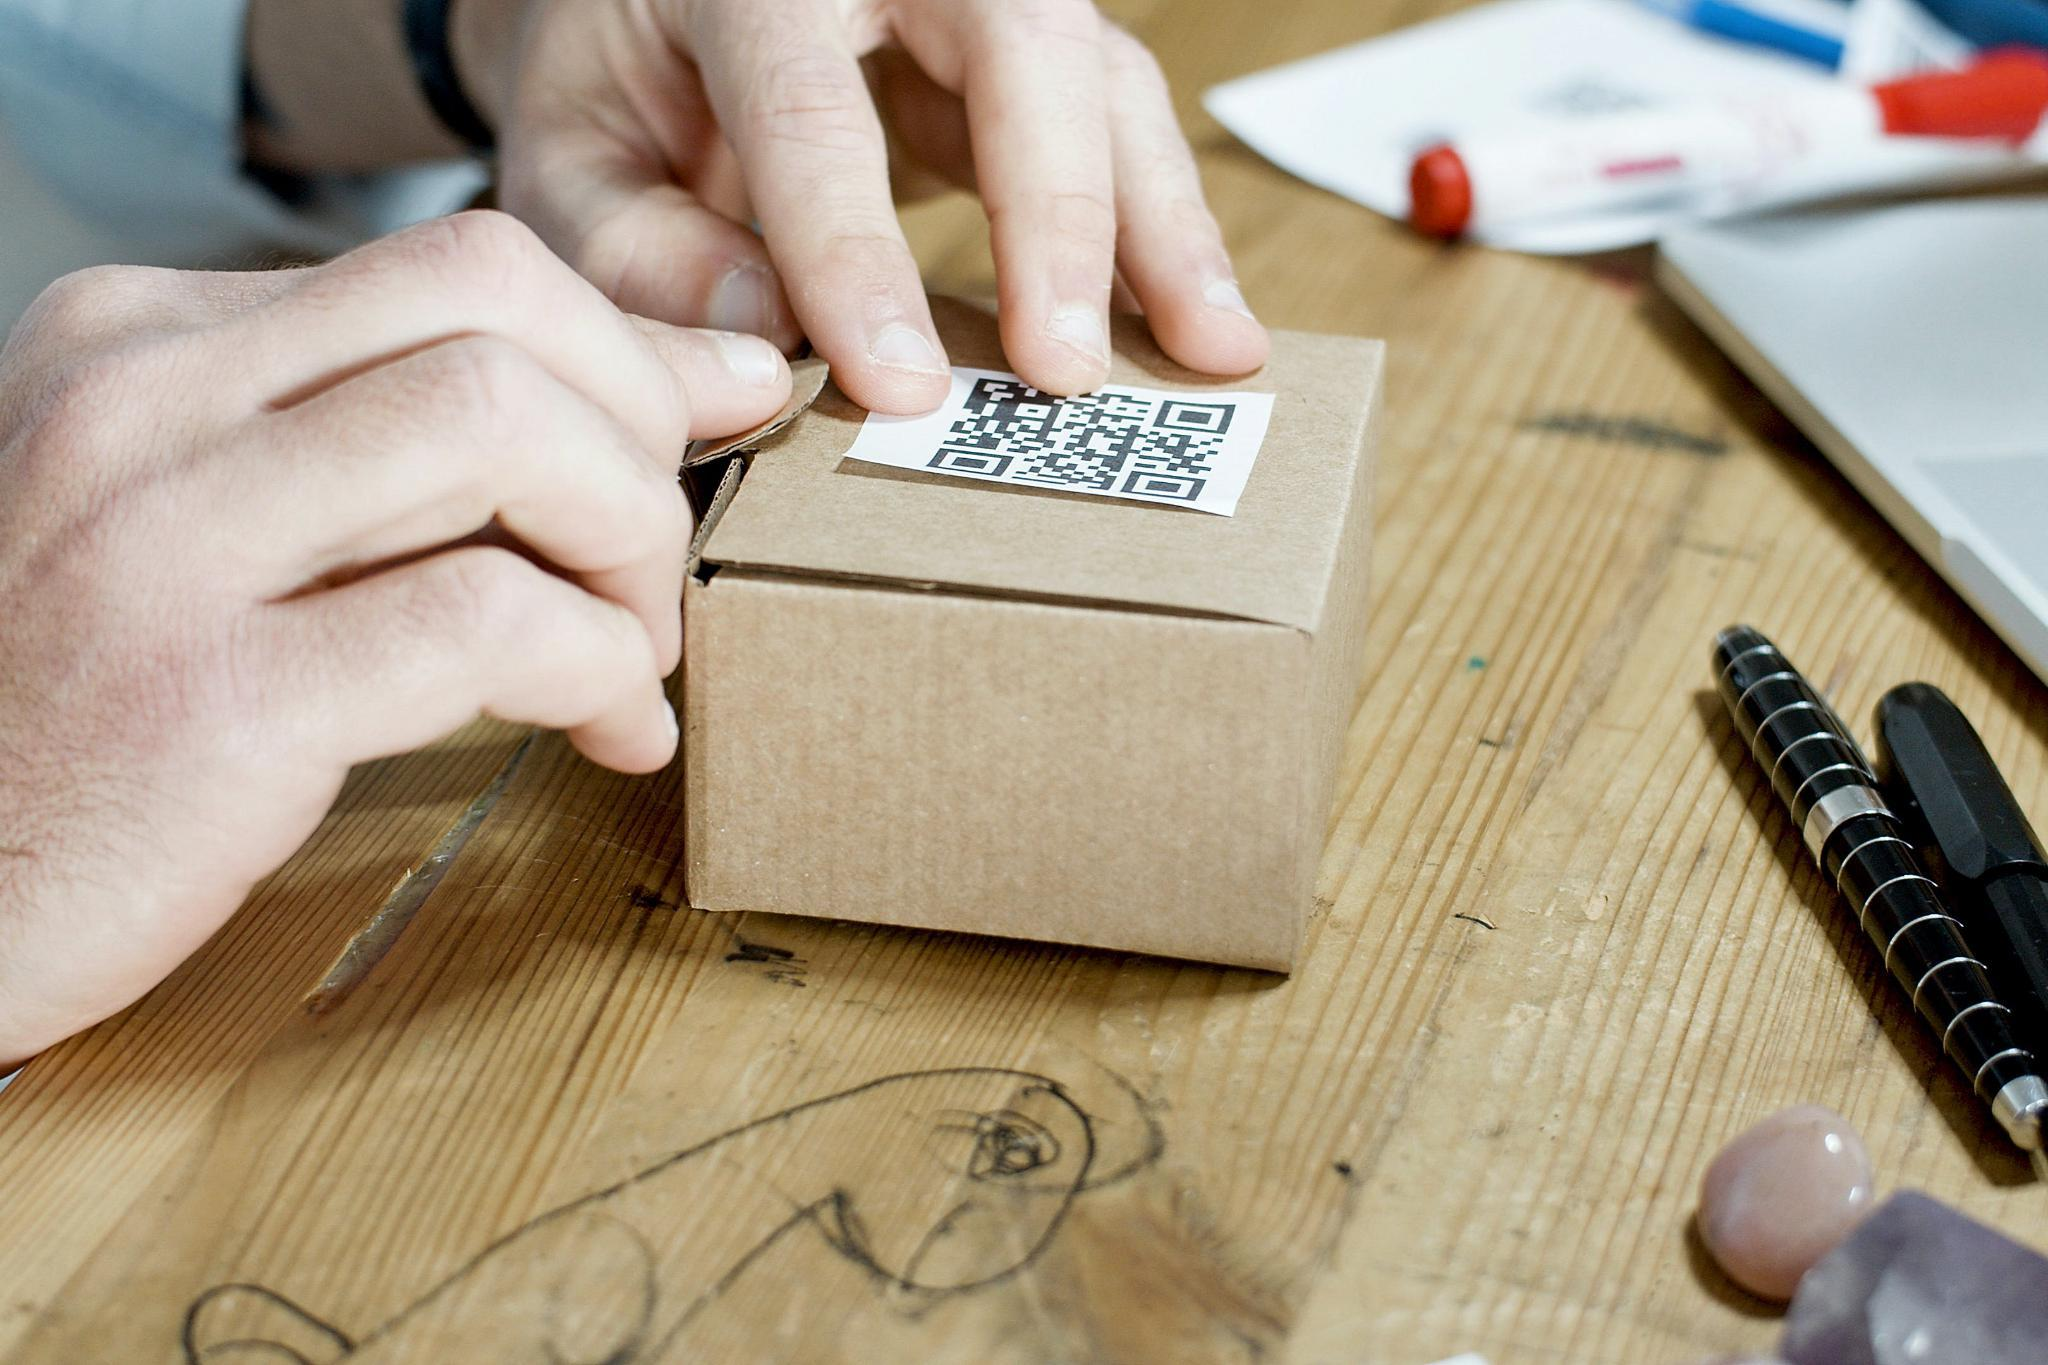Finder pattern: (1121, 466, 1207, 509), (924, 446, 1017, 484), (1153, 398, 1236, 436)
